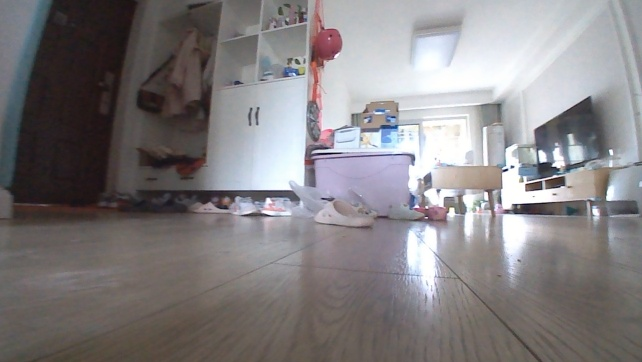TV_stand: (508, 168, 613, 218)
shoe: (8, 0, 138, 211), (386, 201, 425, 221)
slipper: (313, 197, 375, 229), (190, 200, 232, 215)
tea_table1: (420, 163, 504, 218)
